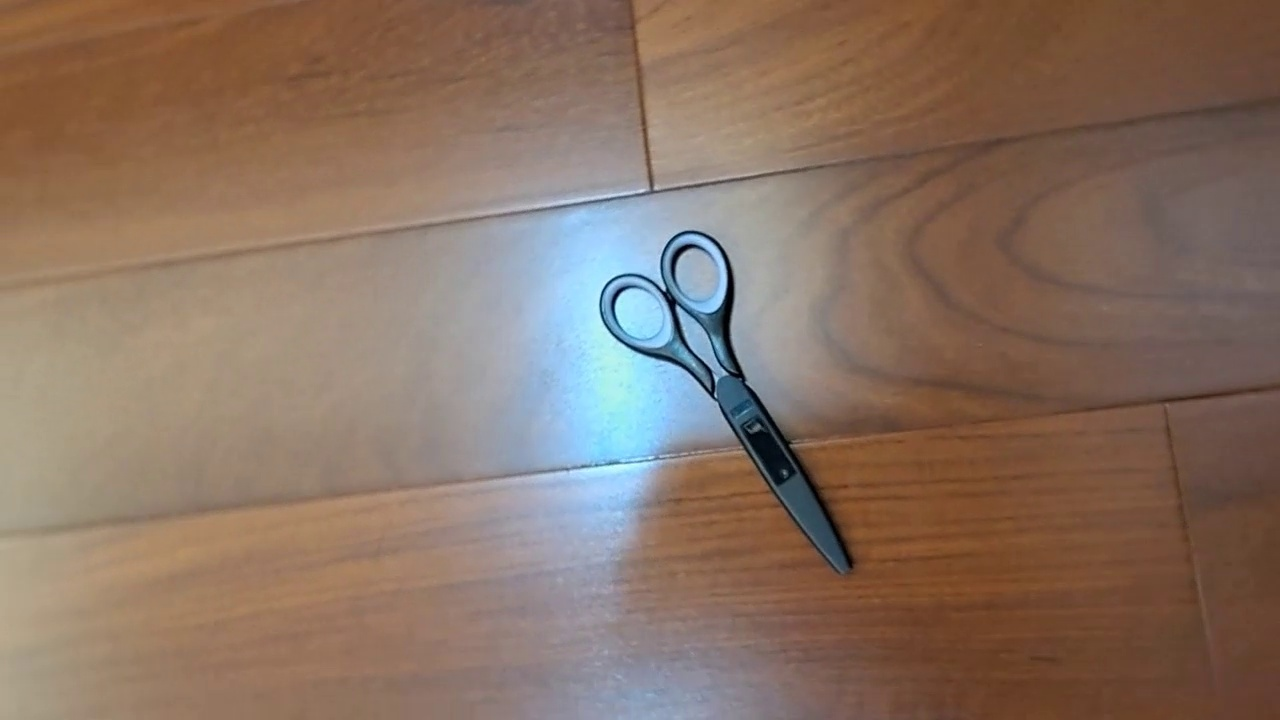scissors: (597, 229, 856, 578)
